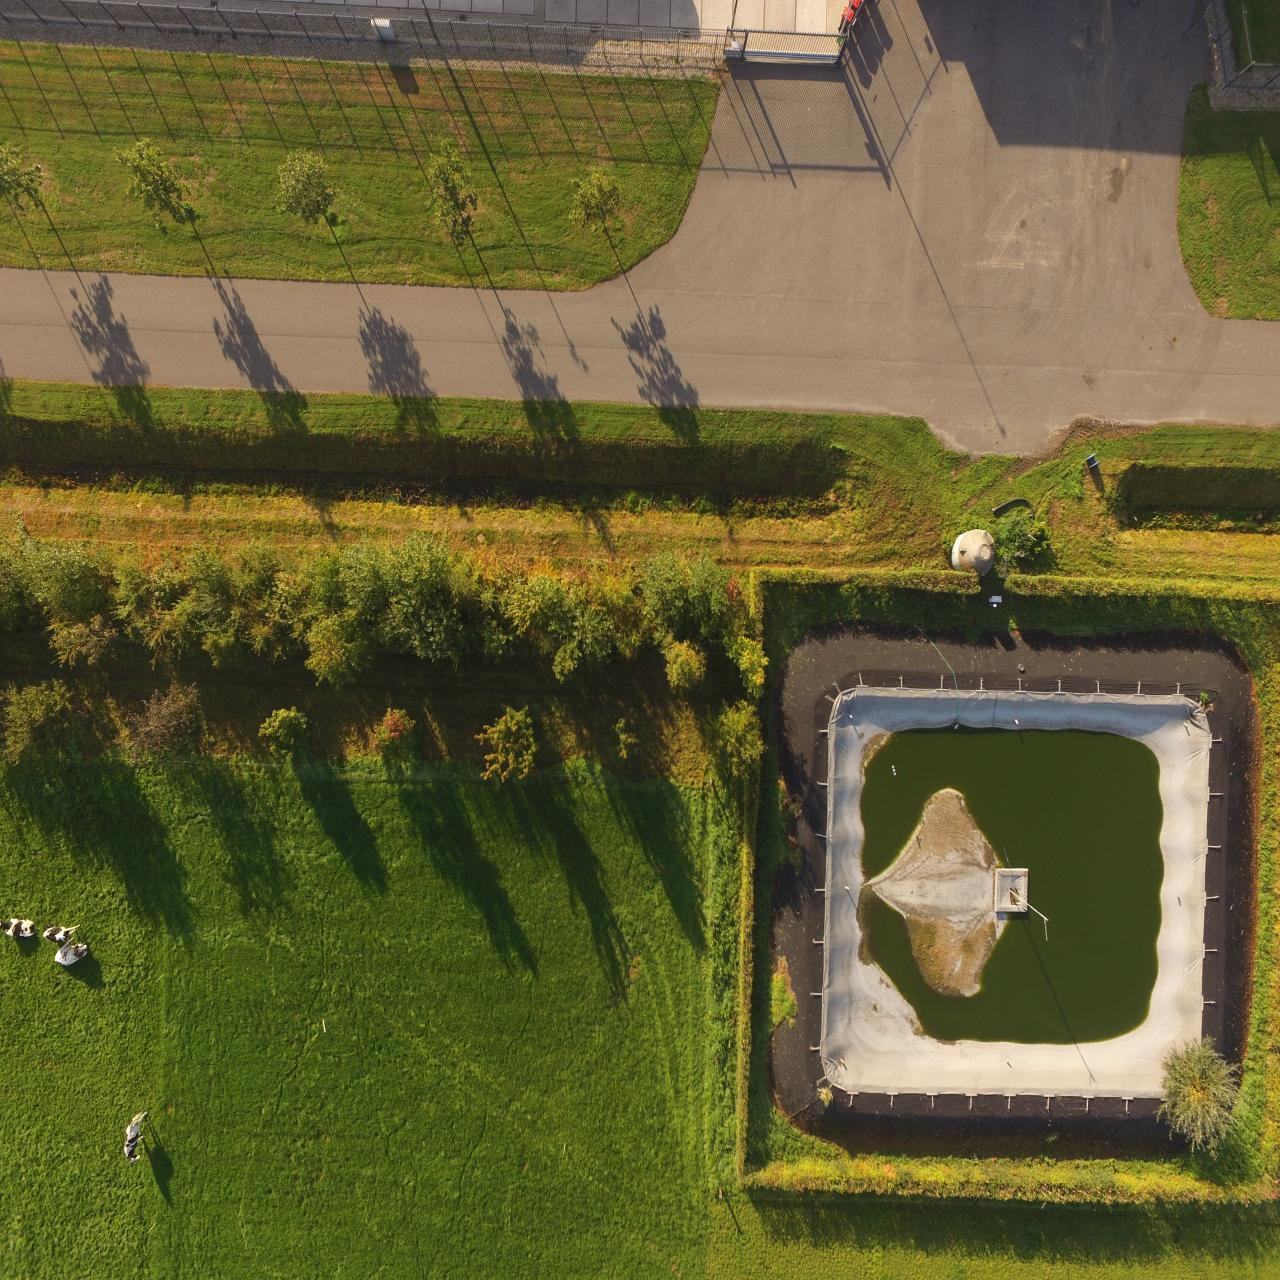cow: (123, 1104, 152, 1167), (53, 941, 91, 966), (41, 922, 87, 939), (0, 918, 35, 939)
